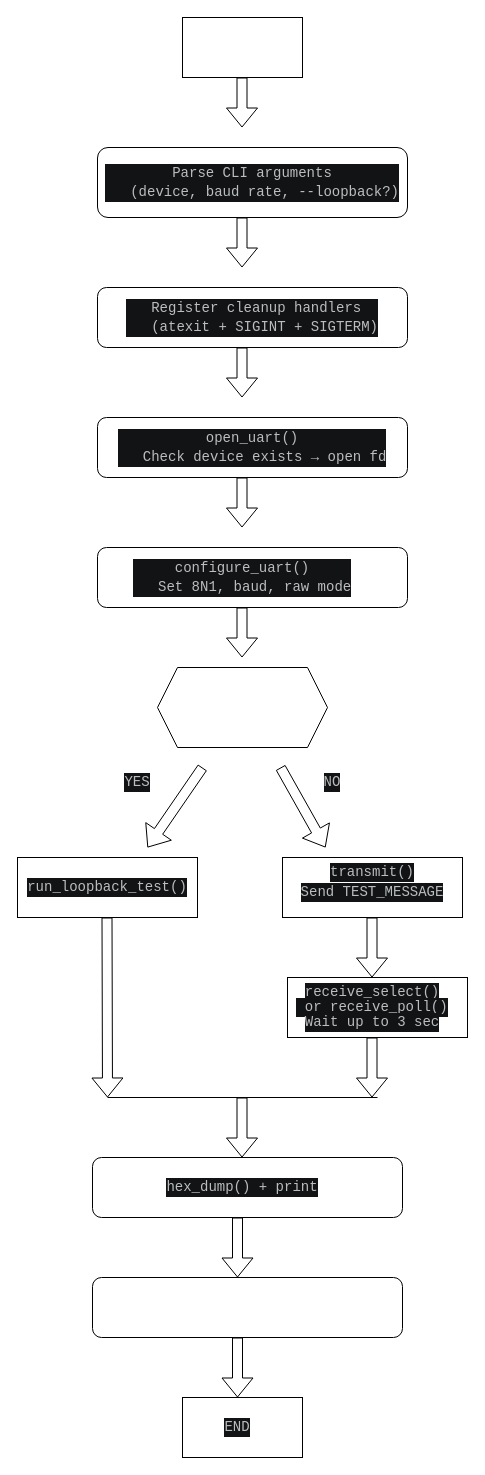
This 485x1475 diagram has some shape labels left out. The box of each missing label's shape, as (x1, y1, x2, y2) in pixels:
--loopback flag?: (156, 666, 328, 748)
restore_terminal() close port, restore settings: (92, 1276, 402, 1338)
START: (182, 16, 302, 78)
